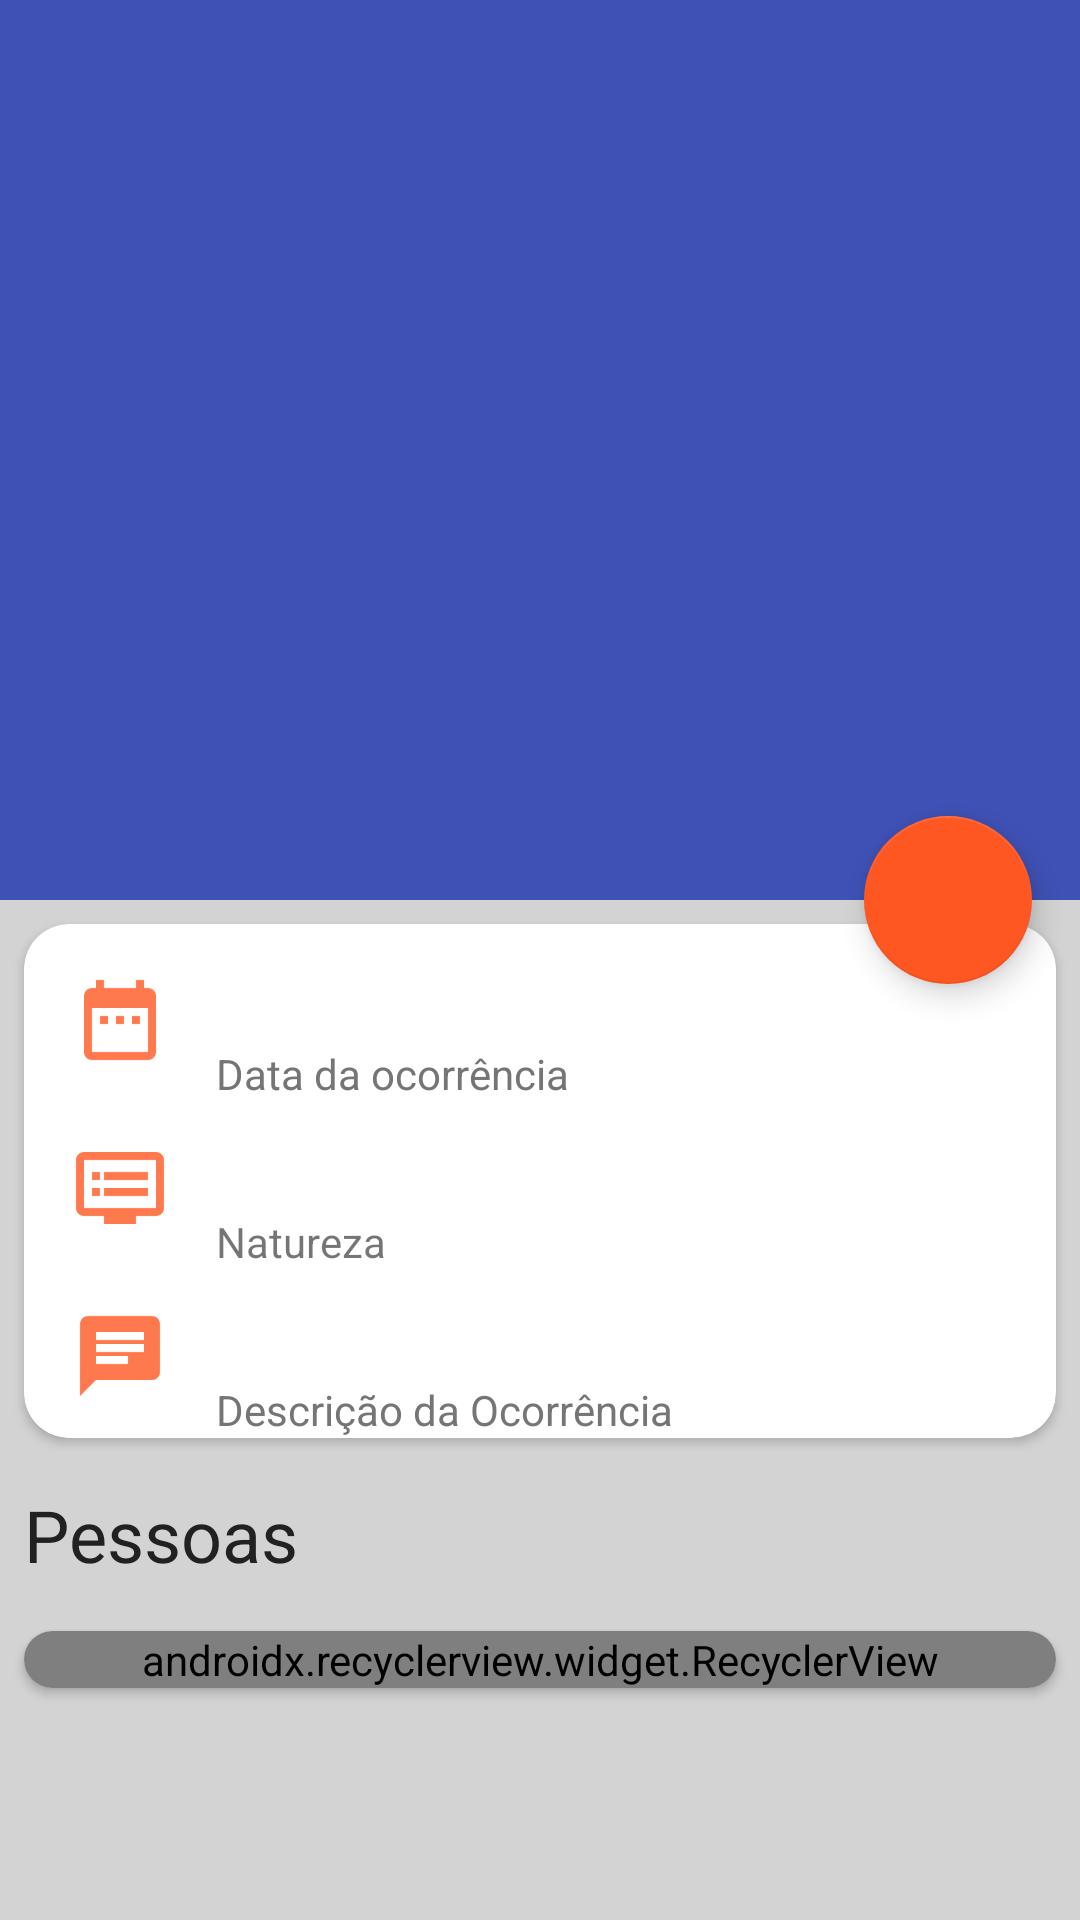

Where icons sit on this 1080w x 1920h app screen, as bbox=(x1, y1, x2, y2):
icone para descricao da ocorrencia: bbox=(80, 1316, 160, 1396)
Imagem de calendario: bbox=(84, 980, 156, 1060)
